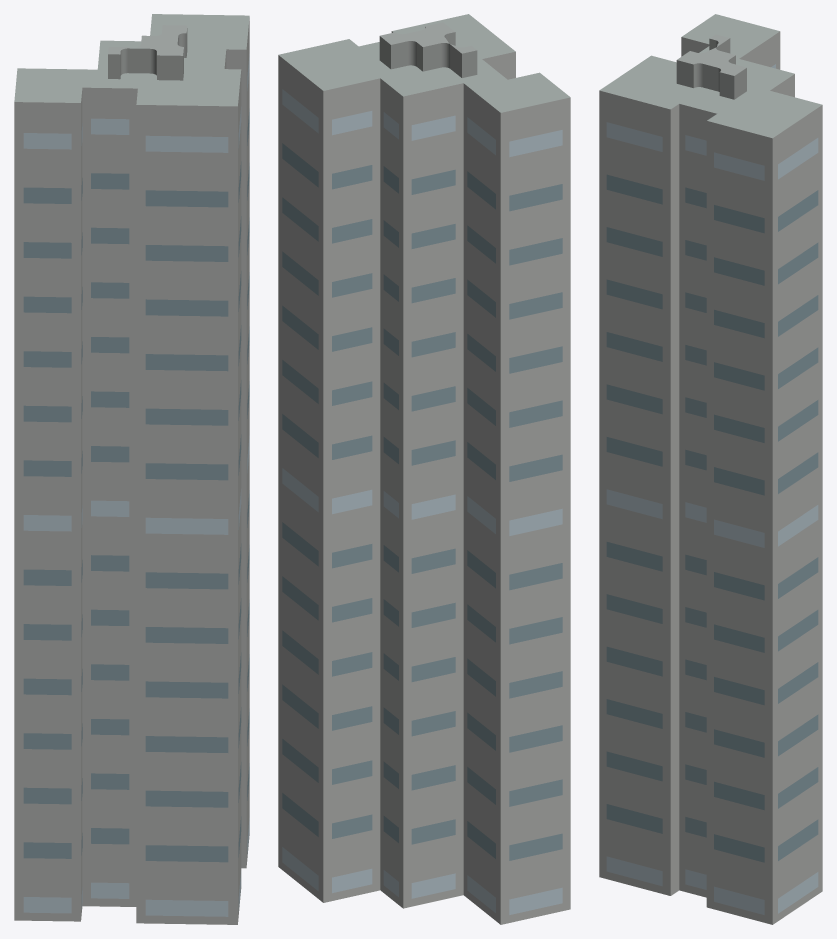
The model's file is fallback-lake-palace-104.glb.
3 views of the same model, side by side, from view 1: azimuth 30°, elevation 25°; view 2: azimuth 150°, elevation 25°; view 3: azimuth 270°, elevation 25° (orthographic). The views are drawn at different scales.
Visible parts, largest first — view 1: fallback-lake-palace-104; view 2: fallback-lake-palace-104; view 3: fallback-lake-palace-104.
Part boxes in pixels (box(x1,y1,x2,y2)): fallback-lake-palace-104: box(14, 14, 249, 924); fallback-lake-palace-104: box(278, 14, 570, 924); fallback-lake-palace-104: box(599, 14, 822, 924).
Bounding box in the file's own units: 26.98 × 82 × 20.48.
